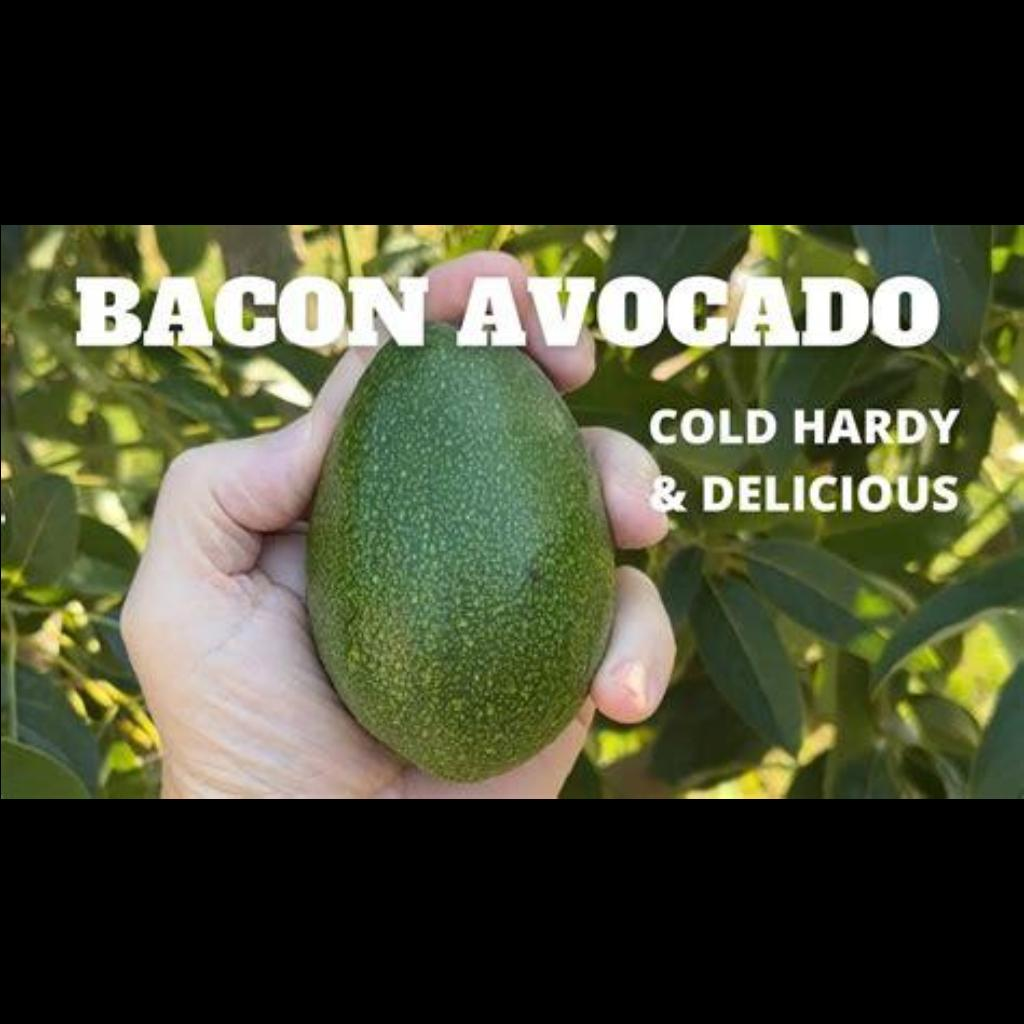Healthy: (300, 354, 614, 782)
